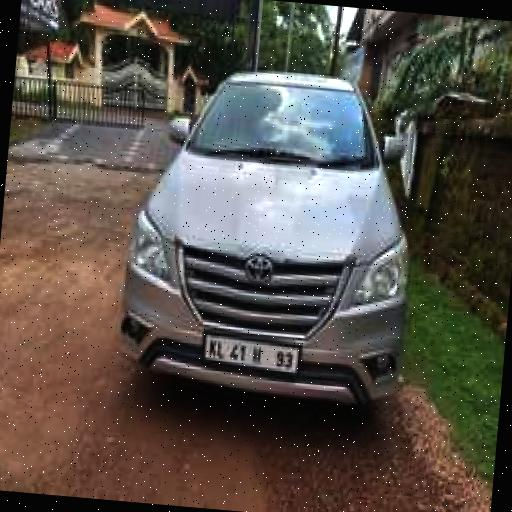license_plate`: (202, 330, 296, 368)
